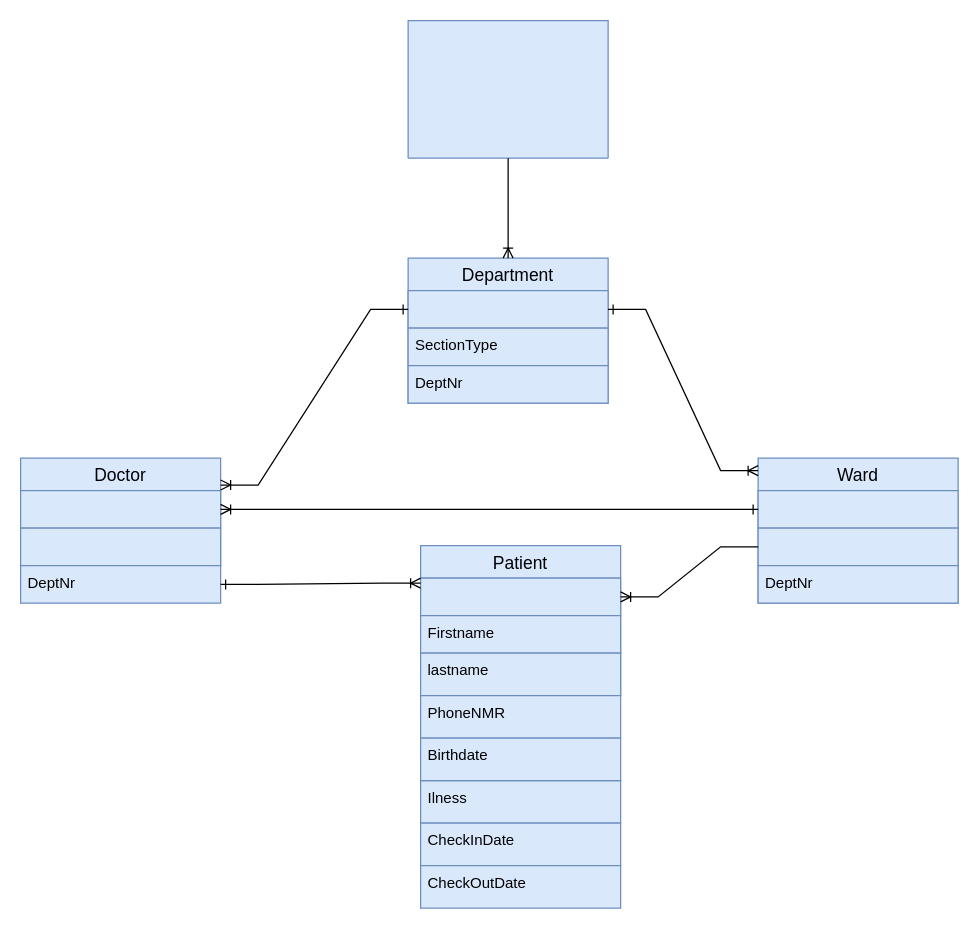
Some shapes in this 979 by 929 pixel diagram are drawn without their labels. Each missing label, with the centre of its shape:
"DepartmentId" goes at pixel 507 308.
"DoctorId" goes at pixel 120 508.
"Hospital" goes at pixel 507 88.
"Name" goes at pixel 120 546.
"PatientId" goes at pixel 520 596.
"RoomNr" goes at pixel 857 546.
"WardId" goes at pixel 857 508.
